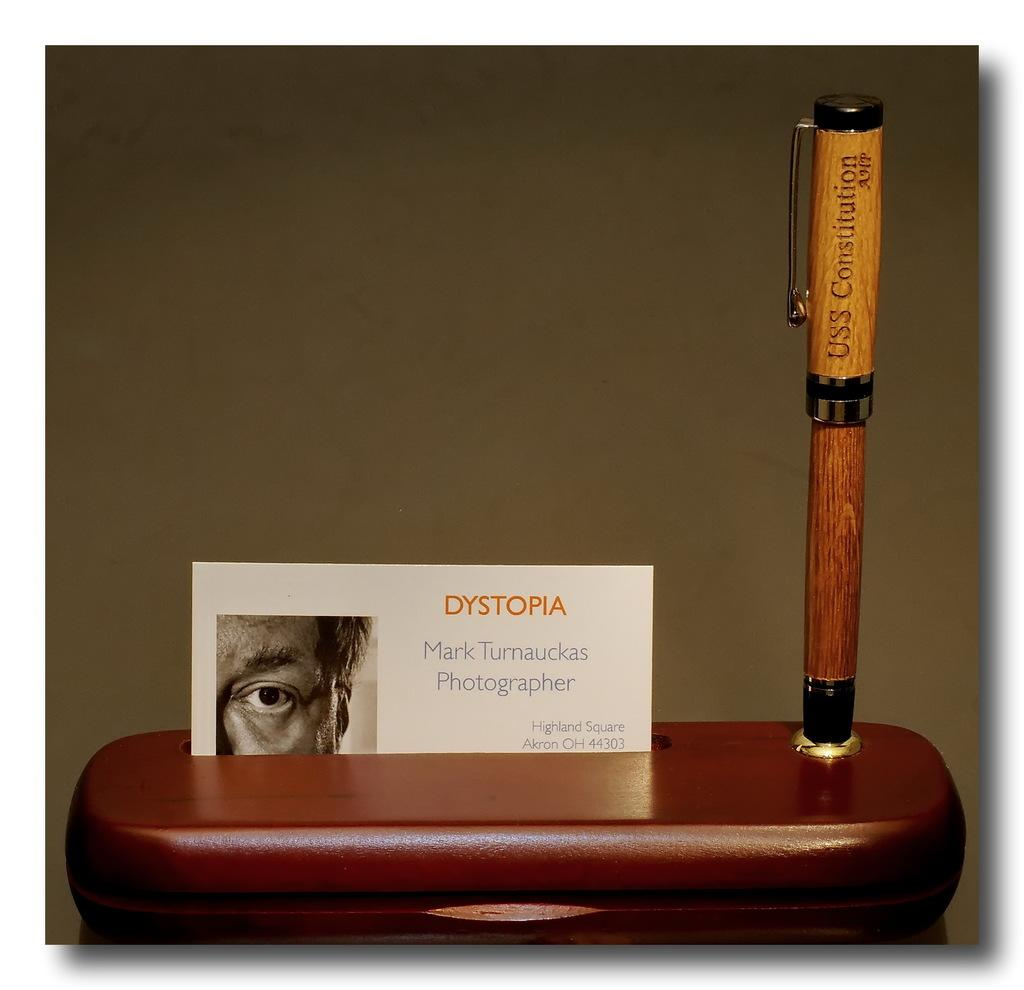pen: (784, 86, 887, 742)
